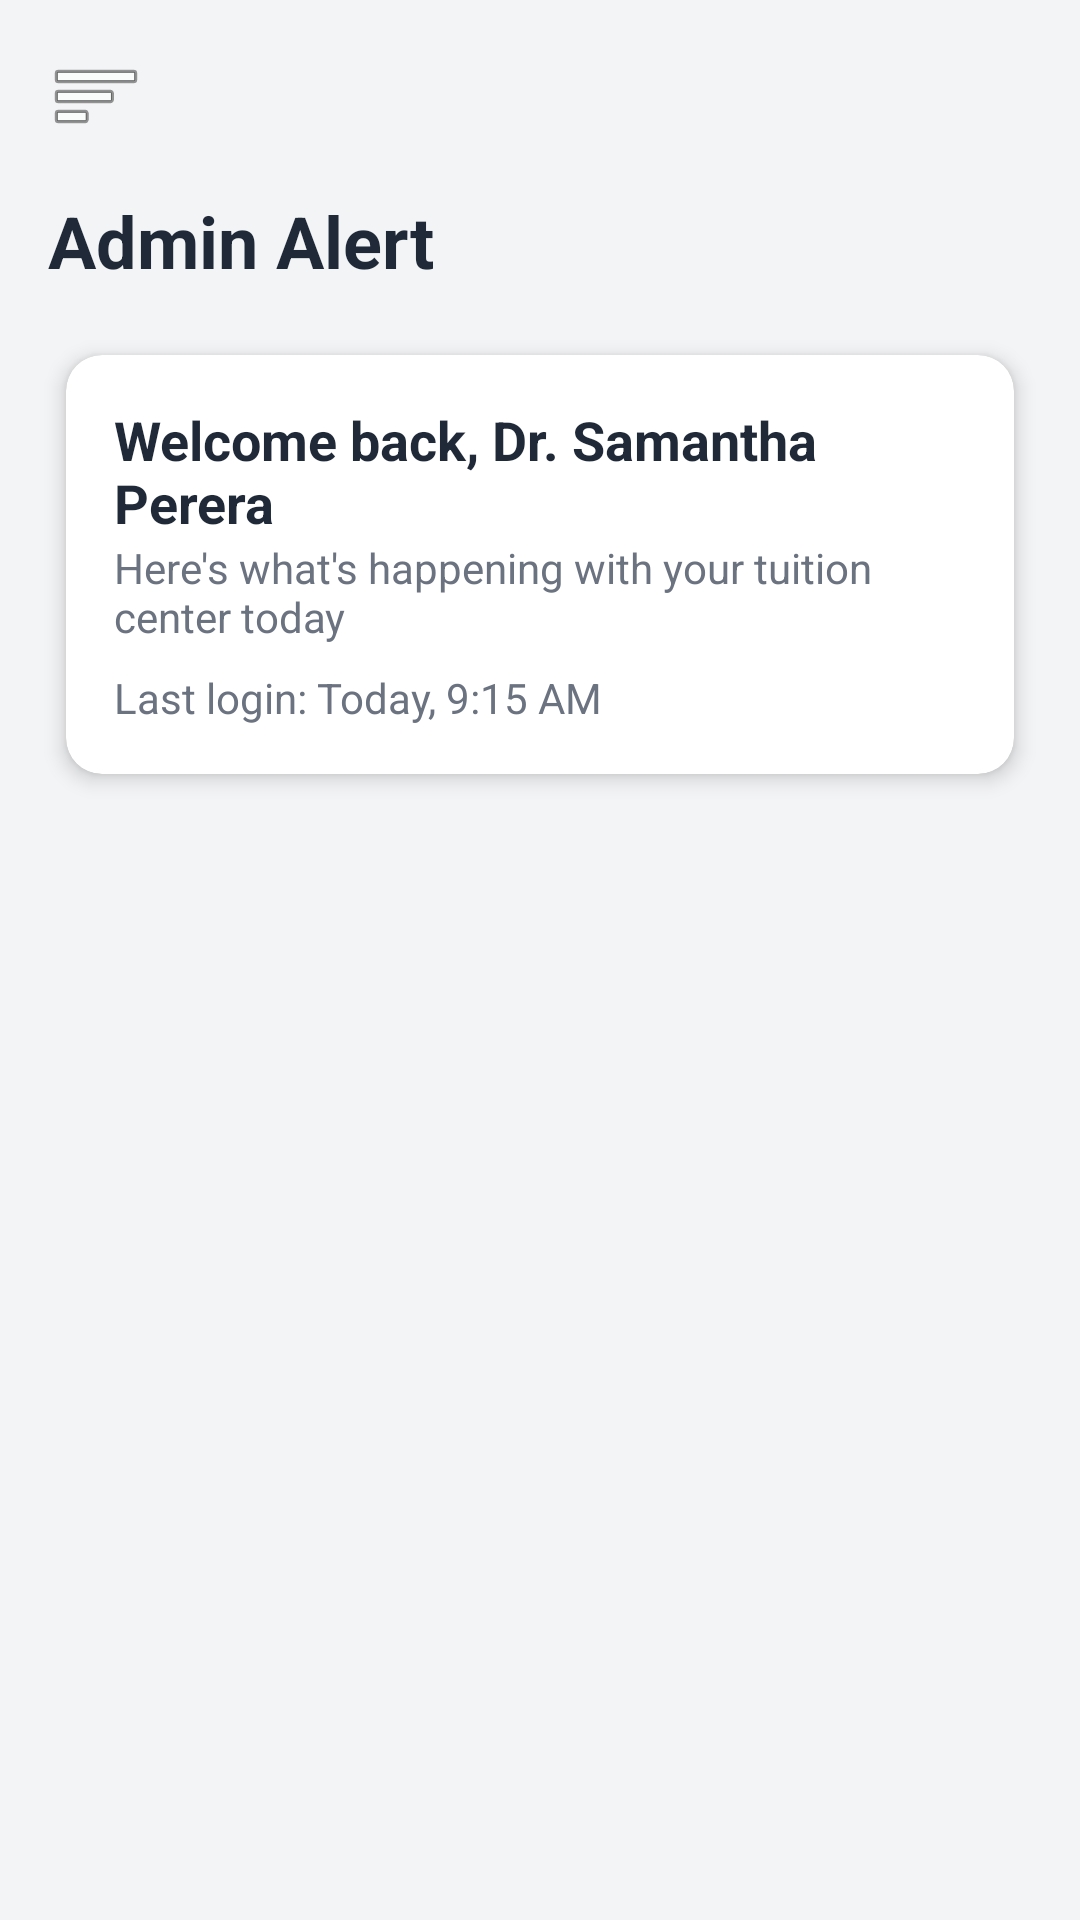

Screen size 1080*1920. Icon name, then its center in pixels as (x,y):
Toggle sidebar: (96,96)
